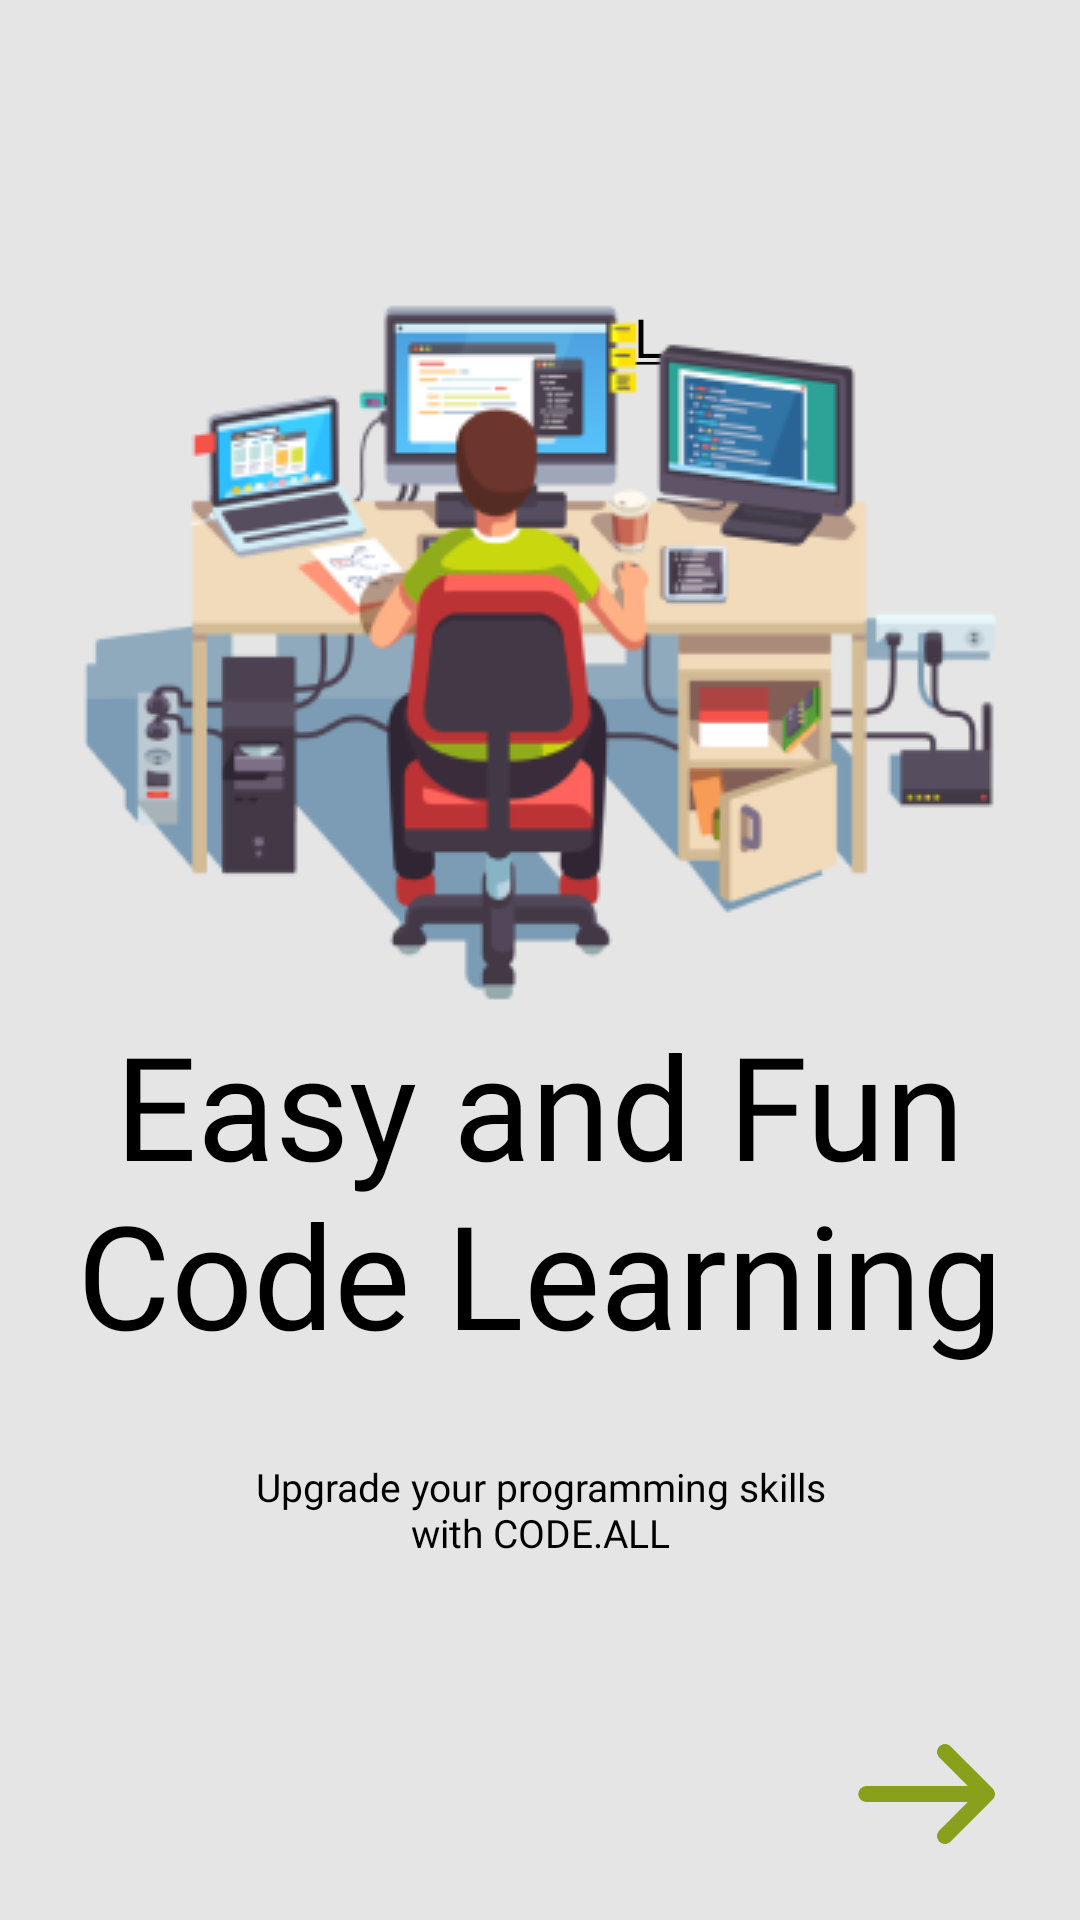

Screen size 1080*1920. Icon name, then its center in pixels as (x,y):
Next: (926,1794)
